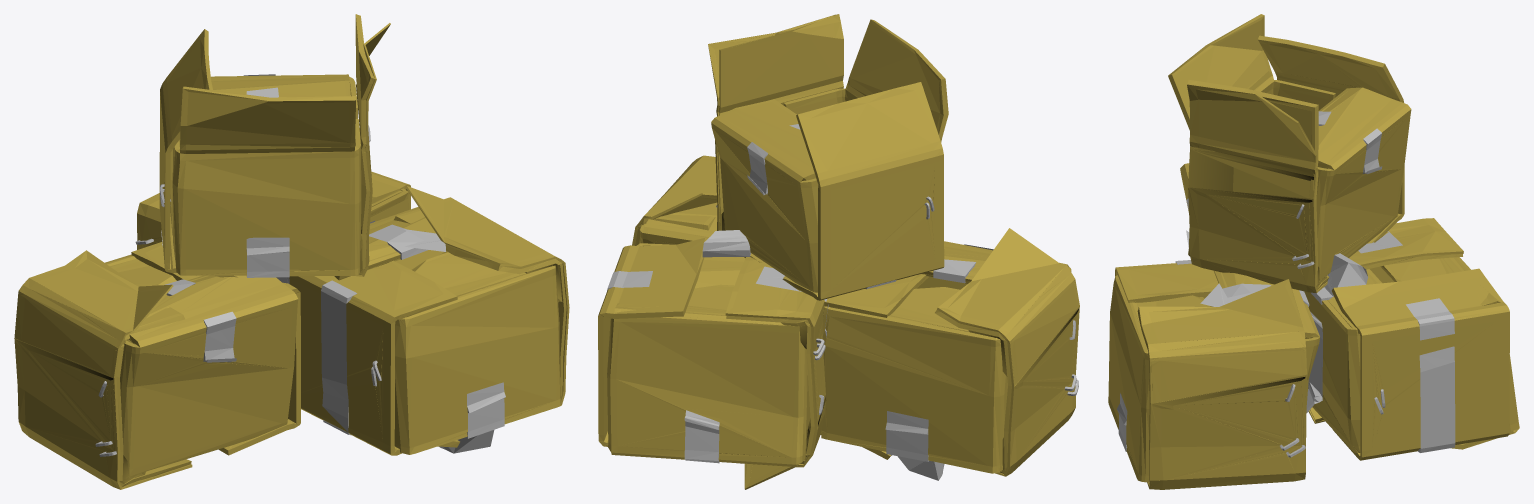
The model's file is lara2.gltf.
3 renders of one model, left to right at view 1: azimuth 30°, elevation 25°; view 2: azimuth 150°, elevation 25°; view 3: azimuth 270°, elevation 25°, orthographic. The views are drawn at different scales.
Size of the model in its own units: 0.1339 by 0.1093 by 0.1137.
